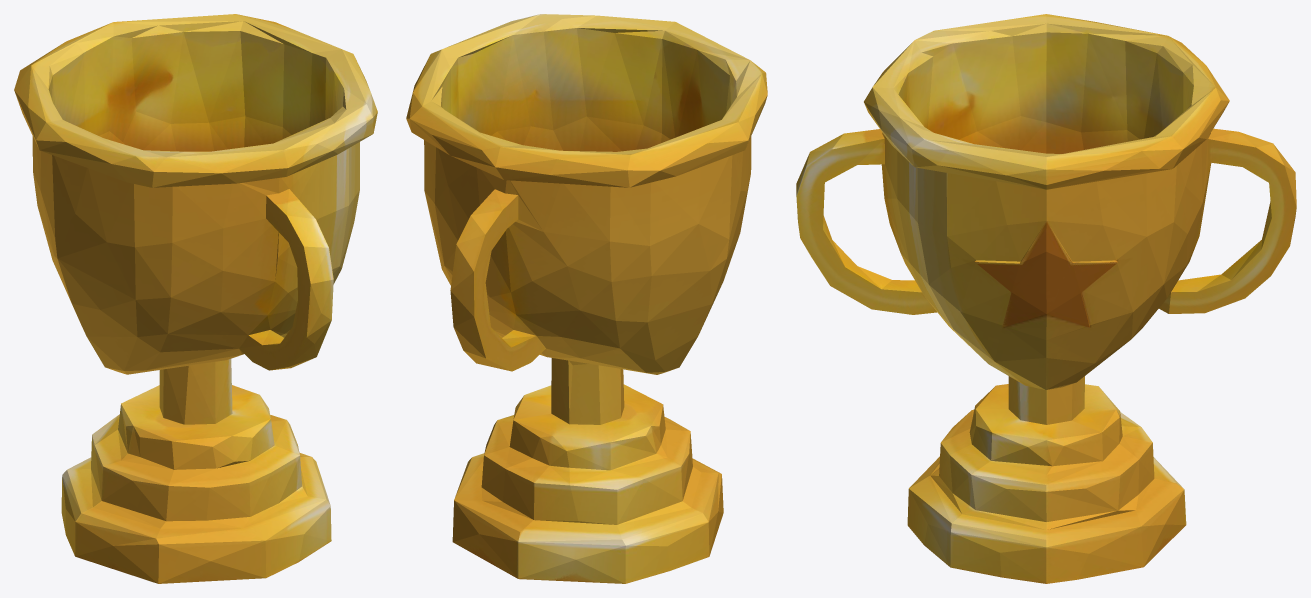
File: golden-trophy.glb
The picture shows the model from 3 angles, left to right: view 1: azimuth 30°, elevation 25°; view 2: azimuth 150°, elevation 25°; view 3: azimuth 270°, elevation 25°; orthographic projection.
Parts seen in each view (by area): view 1: tripo_node_744175b1-a607-4c9e-9402-4768e1e10976; view 2: tripo_node_744175b1-a607-4c9e-9402-4768e1e10976; view 3: tripo_node_744175b1-a607-4c9e-9402-4768e1e10976.
Boxes of the visible parts, left/top/right/bottom form: tripo_node_744175b1-a607-4c9e-9402-4768e1e10976: left=14, top=14, right=377, bottom=583; tripo_node_744175b1-a607-4c9e-9402-4768e1e10976: left=406, top=14, right=767, bottom=583; tripo_node_744175b1-a607-4c9e-9402-4768e1e10976: left=796, top=14, right=1296, bottom=583.
Size of the model in its own units: 0.7321 by 0.9686 by 1.
1 material, 1 textured.
